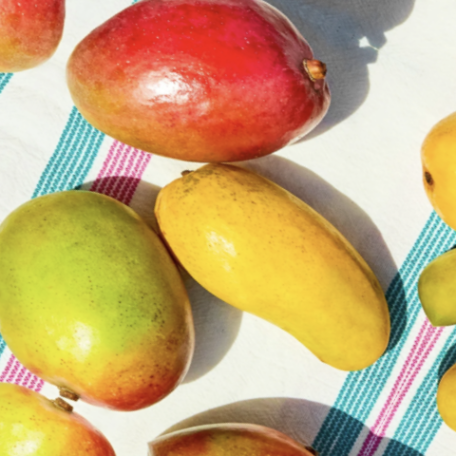mango: (99, 115, 454, 403), (31, 0, 403, 255), (0, 141, 289, 456)
